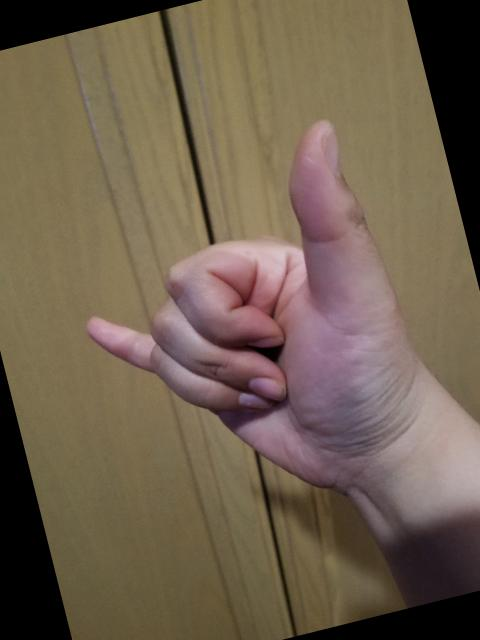Y: (46, 102, 450, 550)
